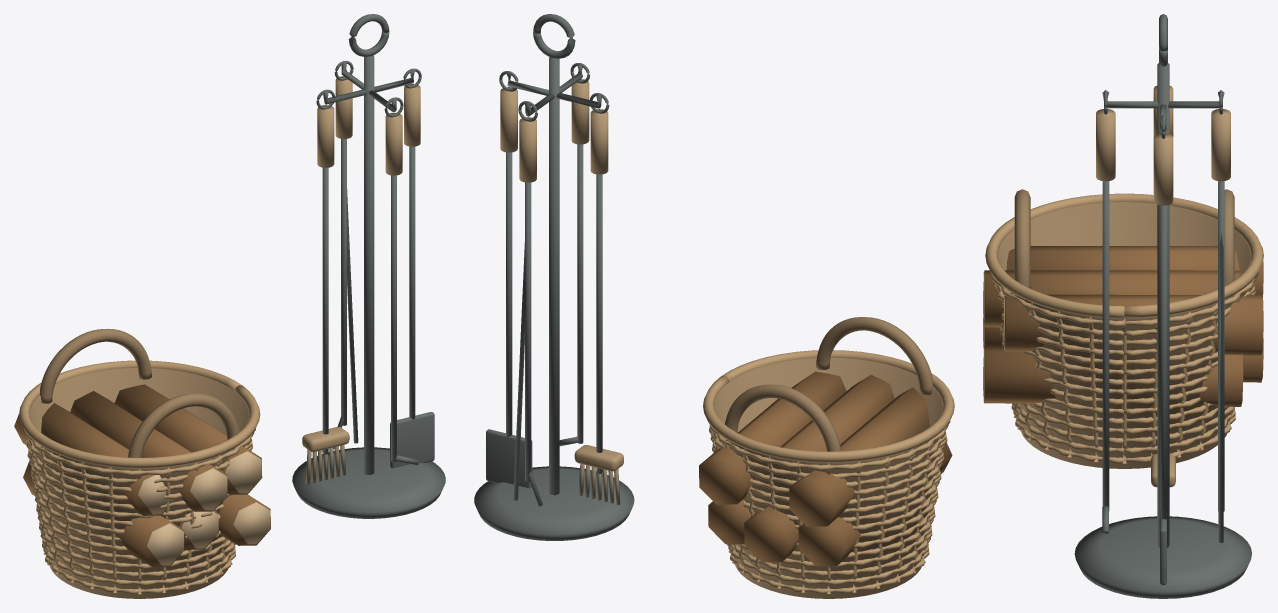
The model's file is arr_hearth.glb.
The picture shows the model from 3 angles, left to right: view 1: azimuth 30°, elevation 25°; view 2: azimuth 150°, elevation 25°; view 3: azimuth 270°, elevation 25°; orthographic projection. The views are drawn at different scales.
Parts seen in each view (by area): view 1: arr_hearth__fireplace_tools_body, arr_hearth__log_basket_body, arr_hearth__log_basket_accent, arr_hearth__log_basket_logs, arr_hearth__log_basket_endgrain, arr_hearth__fireplace_tools_accent, arr_hearth__fireplace_tools_bristles; view 2: arr_hearth__fireplace_tools_body, arr_hearth__log_basket_logs, arr_hearth__log_basket_body, arr_hearth__log_basket_accent, arr_hearth__fireplace_tools_accent, arr_hearth__fireplace_tools_bristles; view 3: arr_hearth__log_basket_body, arr_hearth__fireplace_tools_body, arr_hearth__log_basket_accent, arr_hearth__log_basket_logs, arr_hearth__fireplace_tools_accent.
Boxes of the visible parts, x1,y1,x2,y2 form: arr_hearth__fireplace_tools_body: (292,14,445,518); arr_hearth__log_basket_body: (19,360,260,594); arr_hearth__log_basket_accent: (29,328,249,598); arr_hearth__log_basket_logs: (14,384,270,566); arr_hearth__log_basket_endgrain: (138,451,270,565); arr_hearth__fireplace_tools_accent: (302,76,420,451); arr_hearth__fireplace_tools_bristles: (305,445,345,484); arr_hearth__fireplace_tools_body: (474,14,634,540); arr_hearth__log_basket_logs: (699,371,952,566); arr_hearth__log_basket_body: (703,350,954,593); arr_hearth__log_basket_accent: (714,317,943,598); arr_hearth__fireplace_tools_accent: (500,79,623,471); arr_hearth__fireplace_tools_bristles: (578,464,620,504); arr_hearth__log_basket_body: (985,193,1263,463); arr_hearth__fireplace_tools_body: (1074,14,1251,598); arr_hearth__log_basket_accent: (997,189,1251,468); arr_hearth__log_basket_logs: (983,246,1263,406); arr_hearth__fireplace_tools_accent: (1096,86,1230,487).
Size of the model in its own units: 0.627 by 0.68 by 0.3166.
